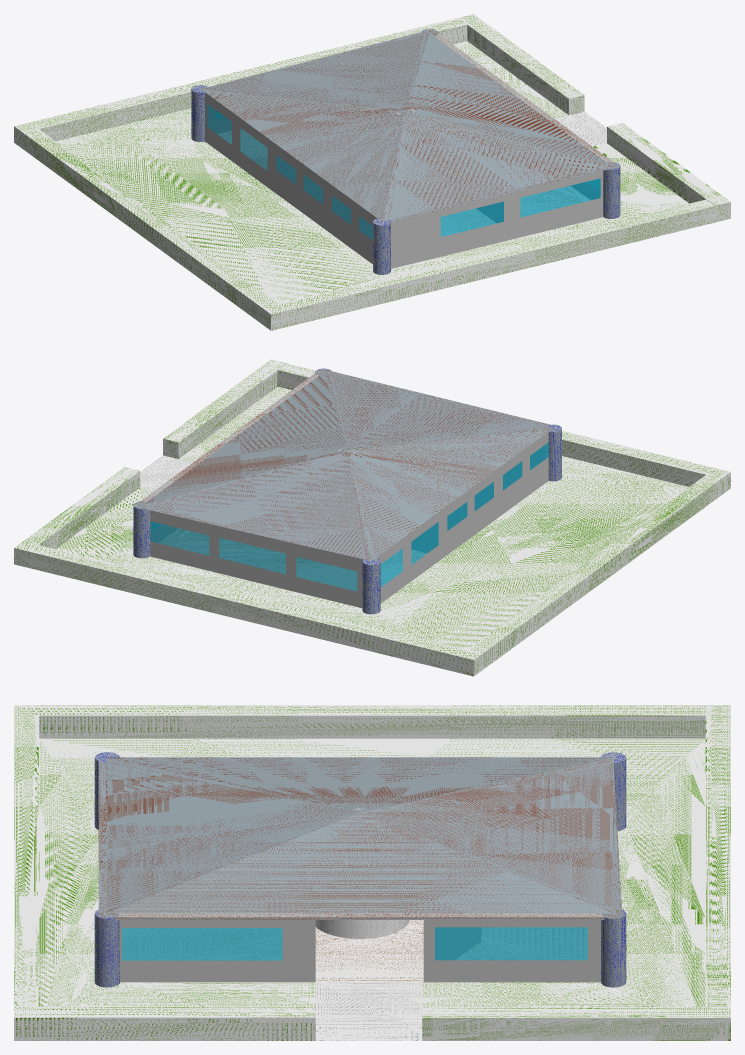
File: clinicaChido.obj
3 views of the same model, one above another, from view 1: azimuth 30°, elevation 25°; view 2: azimuth 150°, elevation 25°; view 3: azimuth 270°, elevation 25° (orthographic). The views are drawn at different scales.
Parts seen in each view (by area): view 1: Mesh1 Model; view 2: Mesh1 Model; view 3: Mesh1 Model.
Part boxes in pixels (left/top/right/bottom): Mesh1 Model: left=14, top=14, right=730, bottom=330; Mesh1 Model: left=14, top=359, right=730, bottom=676; Mesh1 Model: left=14, top=705, right=730, bottom=1040.
Bounding box in the file's own units: 29.25 × 4 × 28.33.
